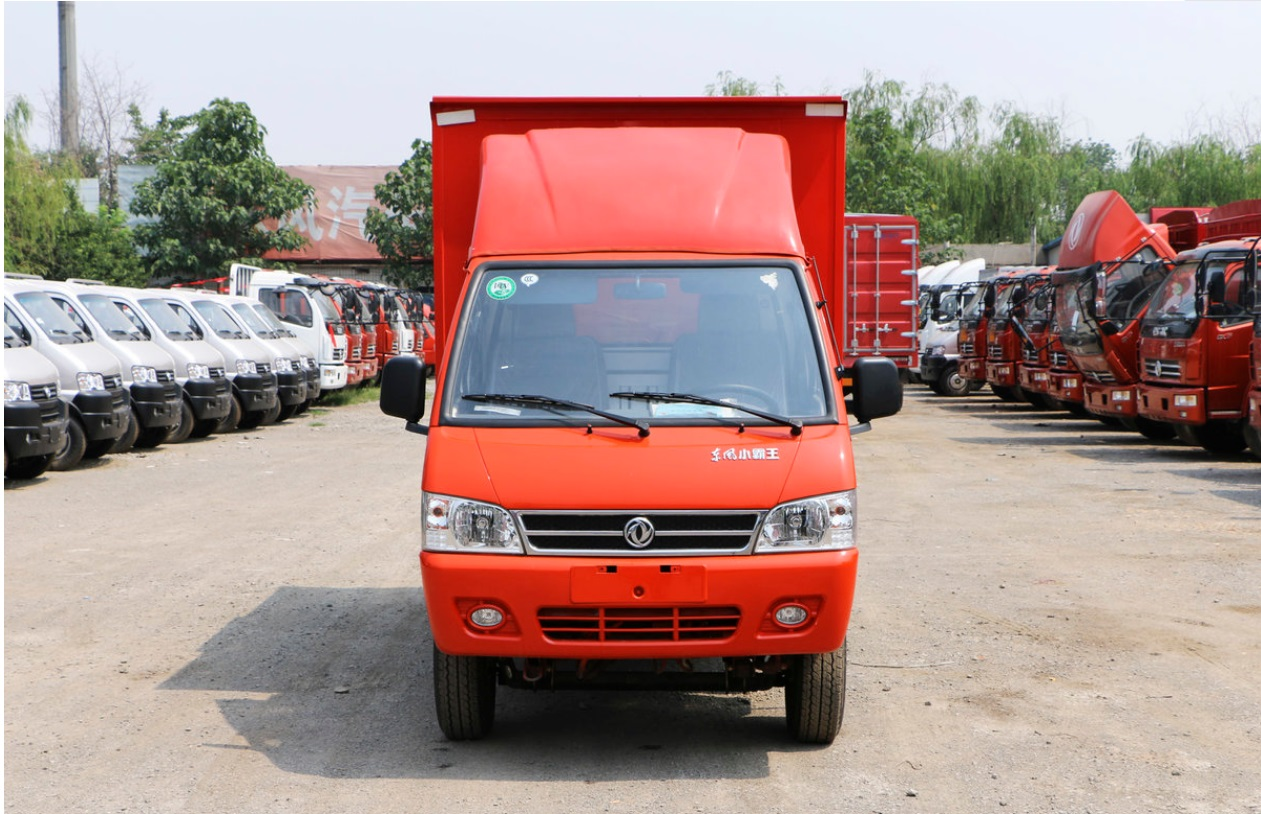truck: (378, 92, 907, 750)
